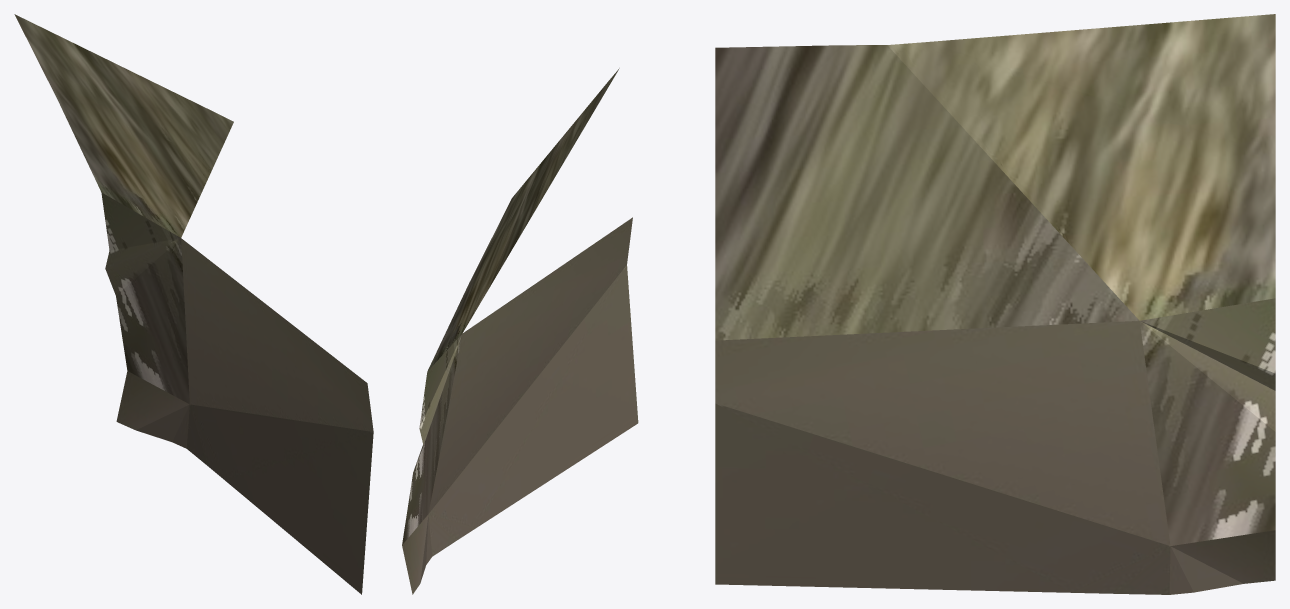
3 renders of one model, left to right at view 1: azimuth 30°, elevation 25°; view 2: azimuth 150°, elevation 25°; view 3: azimuth 270°, elevation 25°, orthographic. The views are drawn at different scales.
Bounding box in the file's own units: 0.9319 × 2.95 × 2.95.
Materials: 3 (3 with a texture image).
